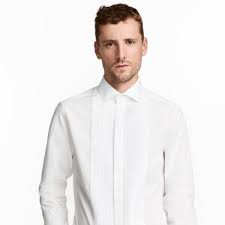F_shirt: (38, 77, 195, 225)
